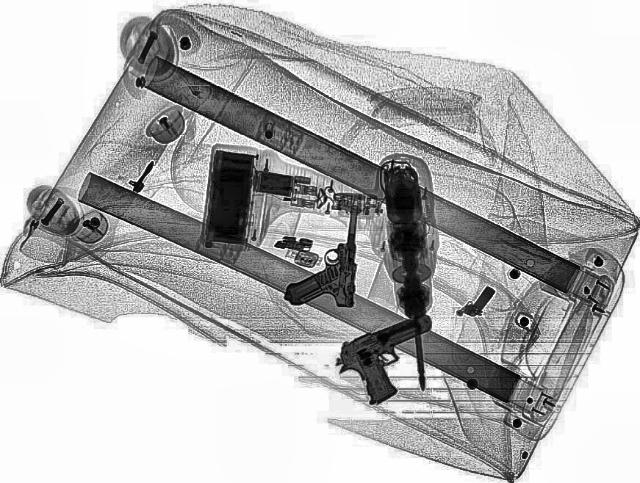Gun: (320, 309, 468, 407), (282, 201, 366, 309)
